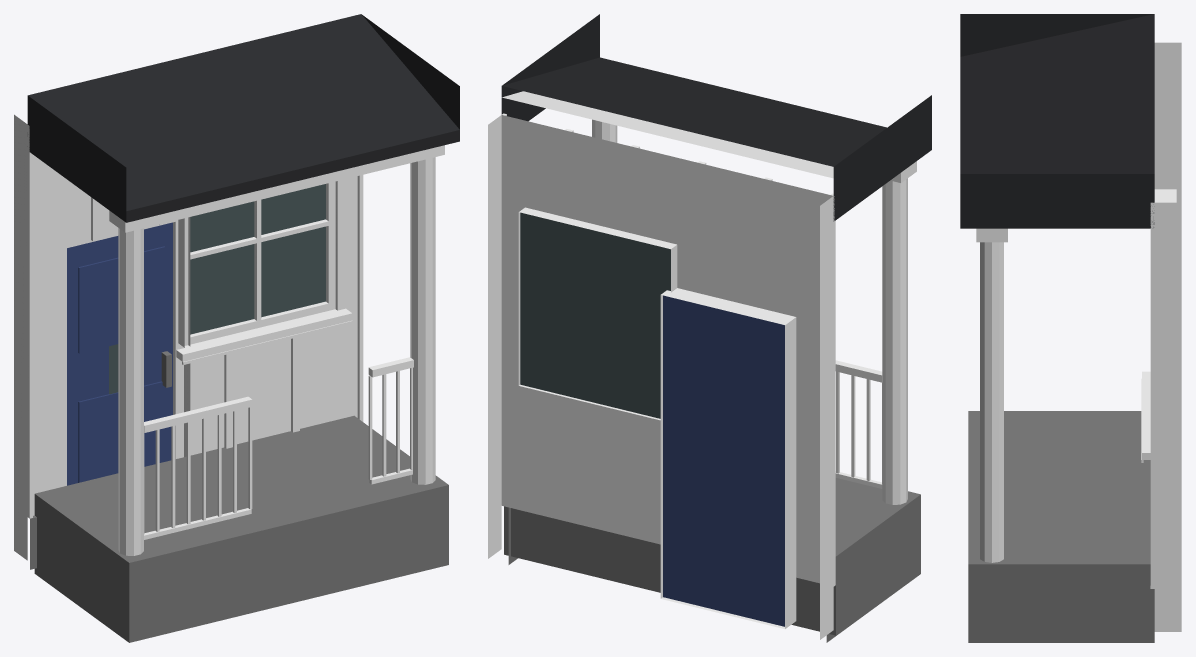
Rendered from base-stair3_close.fbx.
3 views of the same model, side by side, from view 1: azimuth 30°, elevation 25°; view 2: azimuth 150°, elevation 25°; view 3: azimuth 270°, elevation 25° (orthographic).
Parts seen in each view (by area): view 1: a2015/200/base-stair_close; view 2: a2015/200/base-stair_close; view 3: a2015/200/base-stair_close.
Boxes of the visible parts, bbox=[...] form: a2015/200/base-stair_close: bbox=[14, 14, 459, 642]; a2015/200/base-stair_close: bbox=[488, 14, 931, 642]; a2015/200/base-stair_close: bbox=[960, 14, 1181, 642].
Size of the model in its own units: 2.4 by 3.3 by 1.4.
